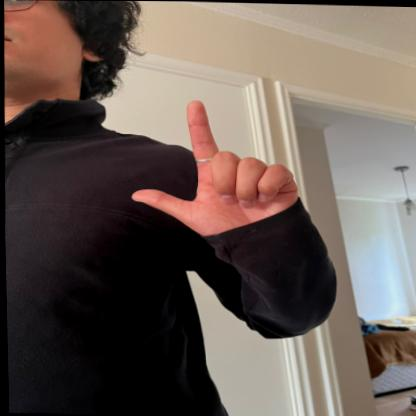L: (122, 87, 304, 240)
